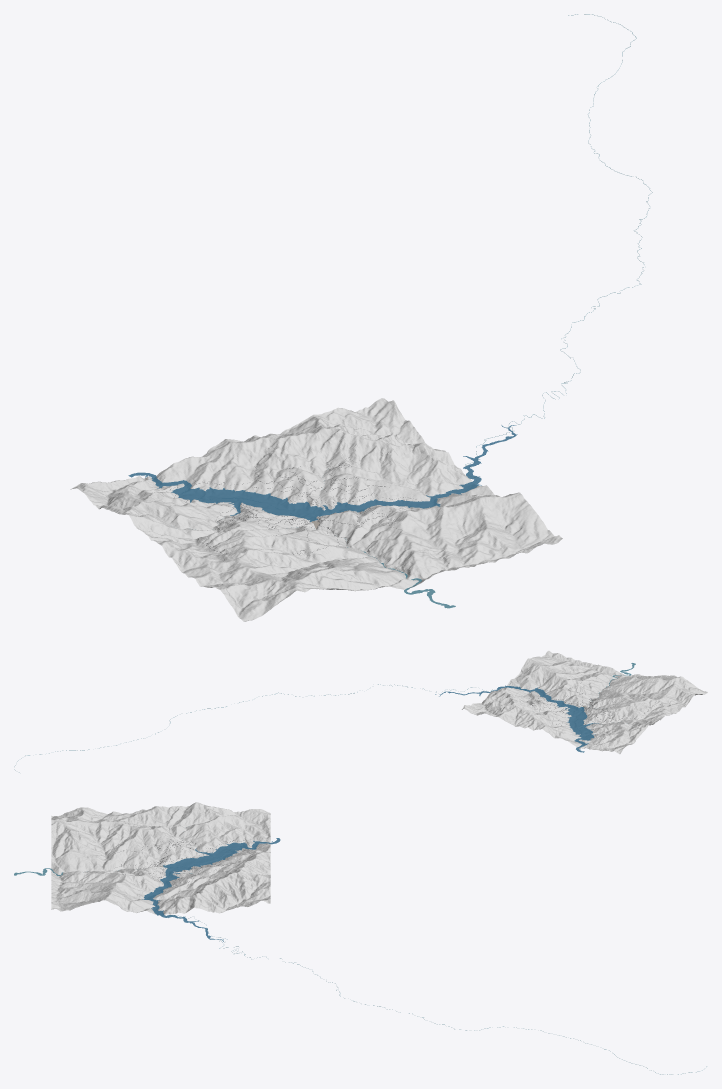
The model's file is tehri_scene.glb.
3 renders of one model, top to bottom at view 1: azimuth 30°, elevation 25°; view 2: azimuth 150°, elevation 25°; view 3: azimuth 270°, elevation 25°, orthographic. The views are drawn at different scales.
Parts seen in each view (by area): view 1: TEHRI_Terrain, TEHRI_Reservoir_00.001; view 2: TEHRI_Terrain, TEHRI_Reservoir_00.001; view 3: TEHRI_Terrain, TEHRI_Reservoir_00.001.
Boxes of the visible parts, x1,y1,x2,y2 form: TEHRI_Terrain: (70,398,562,621); TEHRI_Reservoir_00.001: (128,425,517,521); TEHRI_Terrain: (462,650,707,754); TEHRI_Reservoir_00.001: (435,685,598,752); TEHRI_Terrain: (51,802,270,914); TEHRI_Reservoir_00.001: (142,838,280,942).
Size of the model in its own units: 56580 by 2123 by 61864.
